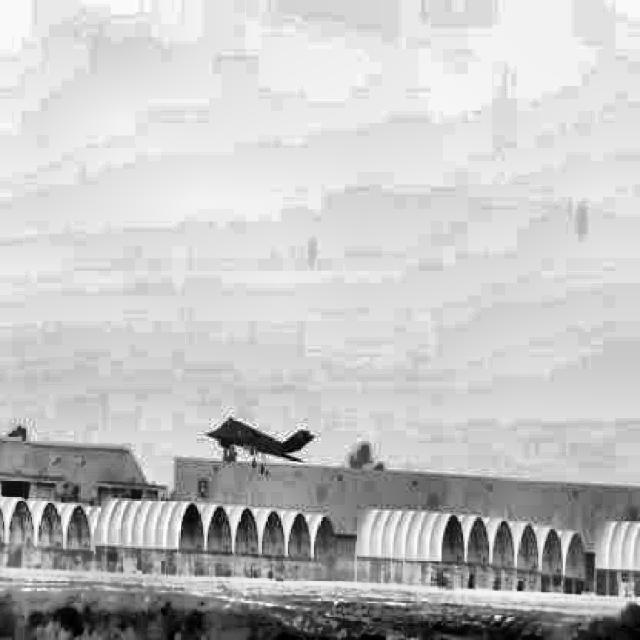F117: (204, 416, 316, 476)
